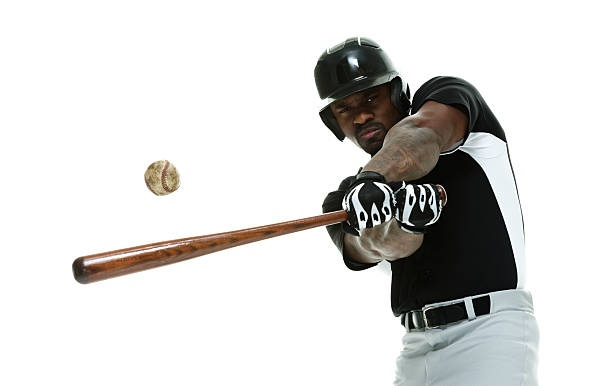bita: (69, 189, 448, 282)
